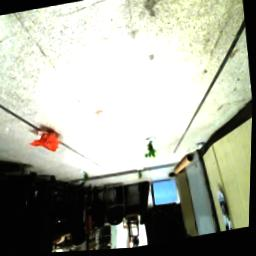herb: (145, 140, 160, 164), (83, 172, 93, 186), (137, 171, 146, 185)
wild: (28, 126, 63, 159)
